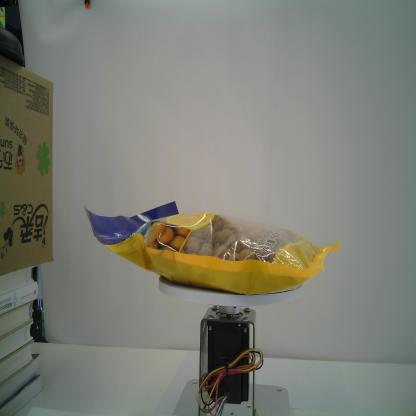Dried Food: (82, 200, 341, 298)
